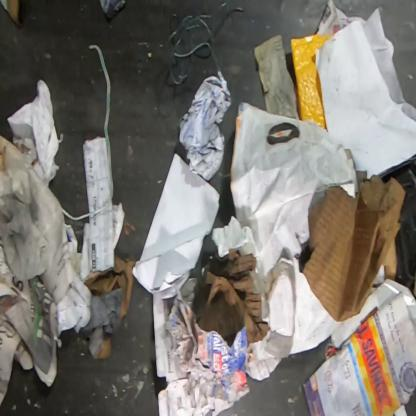cardboard: (301, 175, 406, 322), (190, 248, 271, 347)
rigid_plastic: (378, 155, 416, 299)
